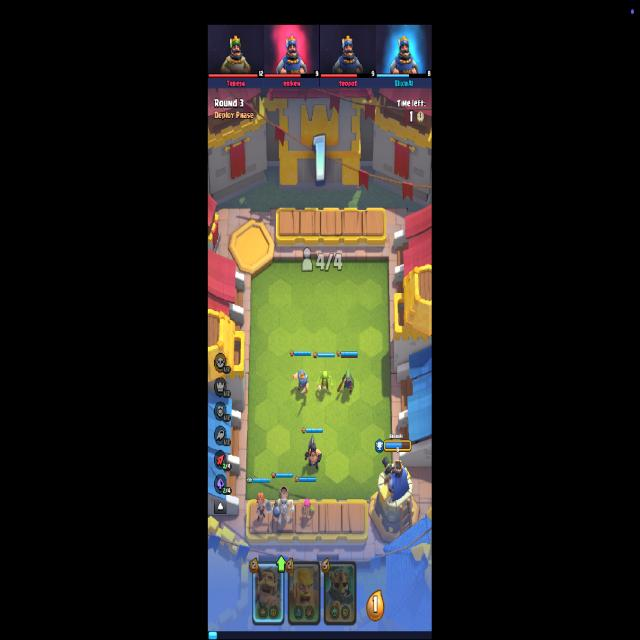archer: (300, 499, 314, 520)
bandit: (337, 368, 355, 396)
card_barbarian: (287, 559, 321, 626)
card_knight: (252, 560, 286, 626)
card_skeleton_king: (323, 558, 357, 626)
executioner: (304, 433, 322, 474)
giant_skeleton: (274, 486, 294, 524)
goblin: (317, 369, 334, 395)
knight: (292, 368, 310, 394)
valkyrie: (255, 493, 271, 521)
